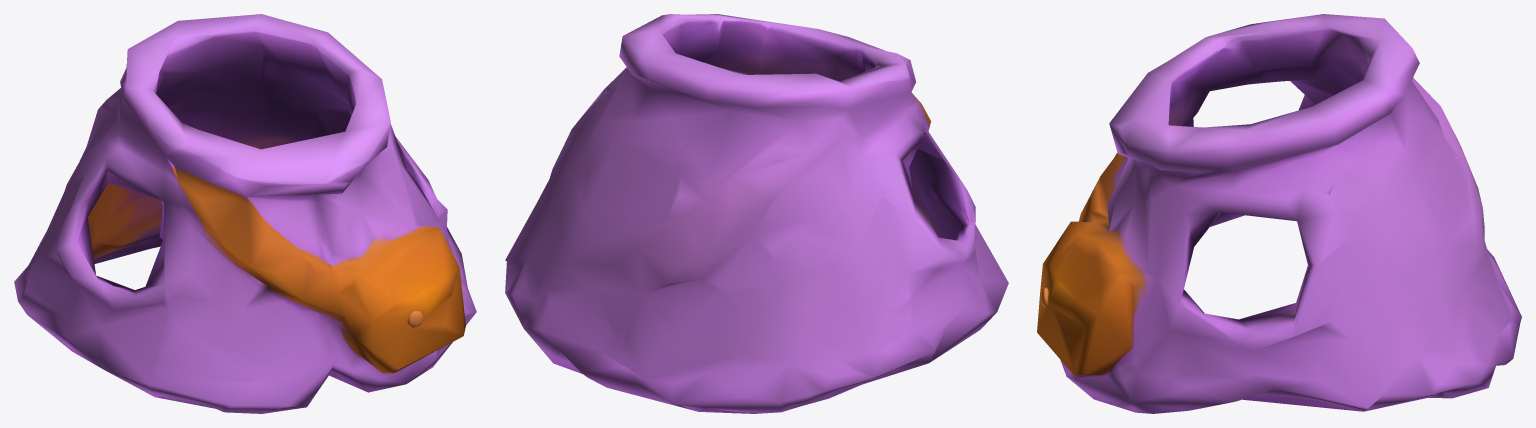
File: wizard-body.glb
3 views of the same model, side by side, from view 1: azimuth 30°, elevation 25°; view 2: azimuth 150°, elevation 25°; view 3: azimuth 270°, elevation 25° (orthographic). The views are drawn at different scales.
Parts seen in each view (by area): view 1: tripo_node_4b0a5af1; view 2: tripo_node_4b0a5af1; view 3: tripo_node_4b0a5af1.
Part boxes in pixels (x1=…): tripo_node_4b0a5af1: x1=14, y1=14, x2=476, y2=413; tripo_node_4b0a5af1: x1=505, y1=14, x2=1008, y2=413; tripo_node_4b0a5af1: x1=1037, y1=14, x2=1521, y2=413.
Size of the model in its own units: 0.578 by 0.378 by 0.568.
Materials: 1 (1 with a texture image).
